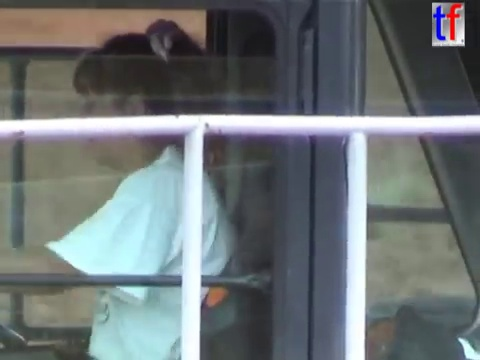truck: (1, 1, 480, 360)
worker: (1, 13, 252, 360)
